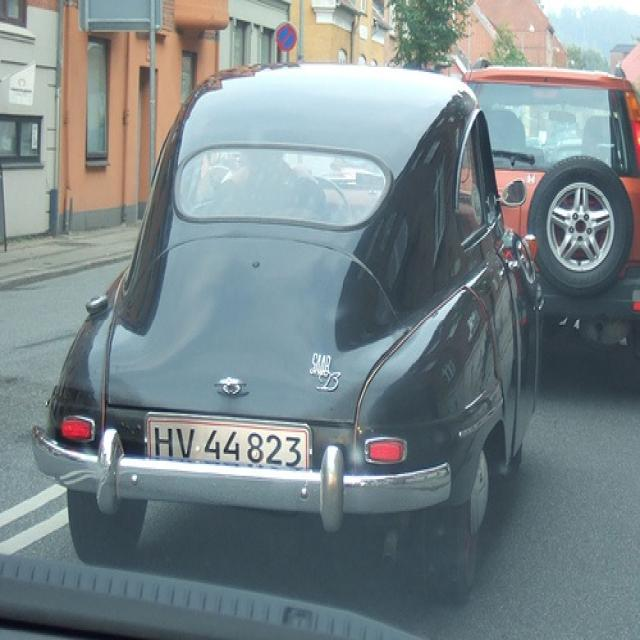car: (27, 50, 544, 610), (436, 60, 638, 382)
